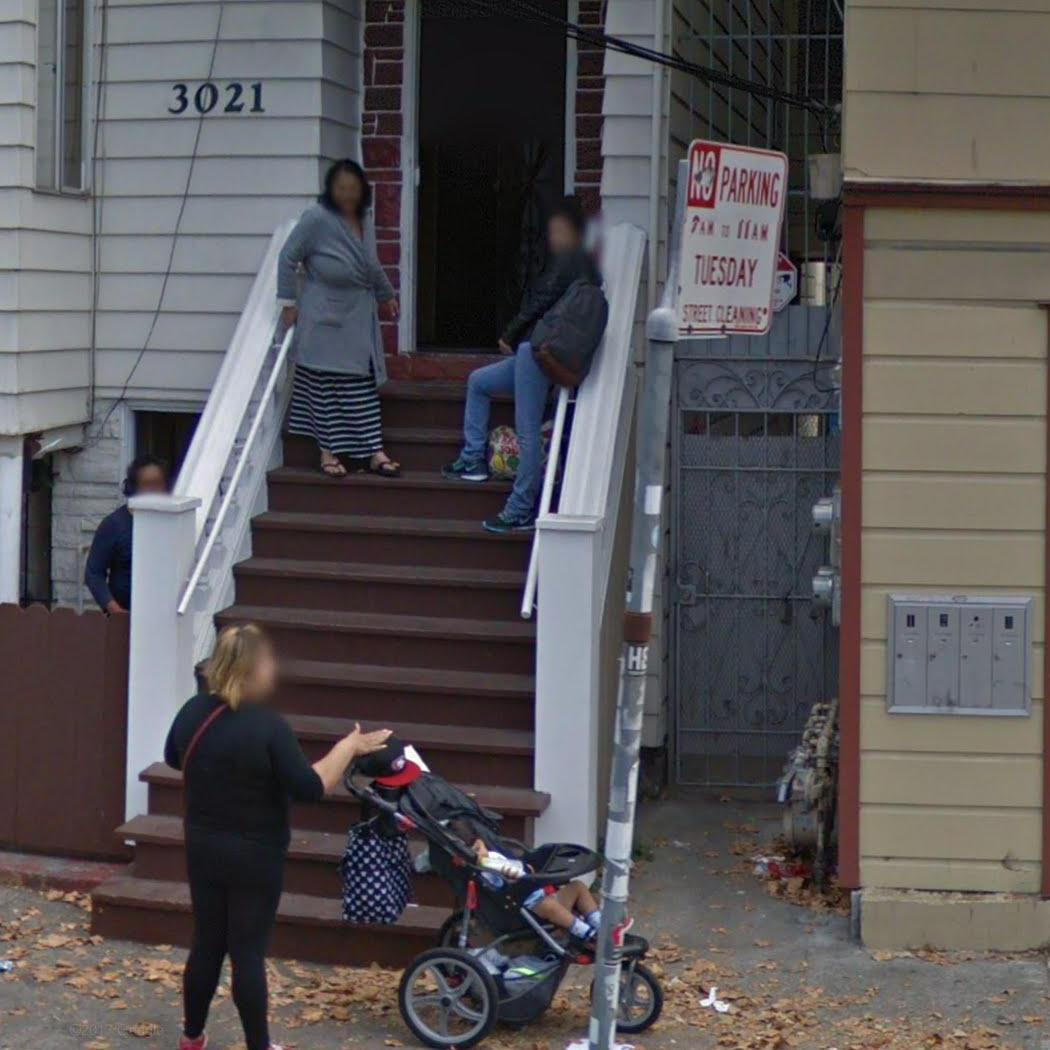No Parking: (668, 133, 794, 343)
